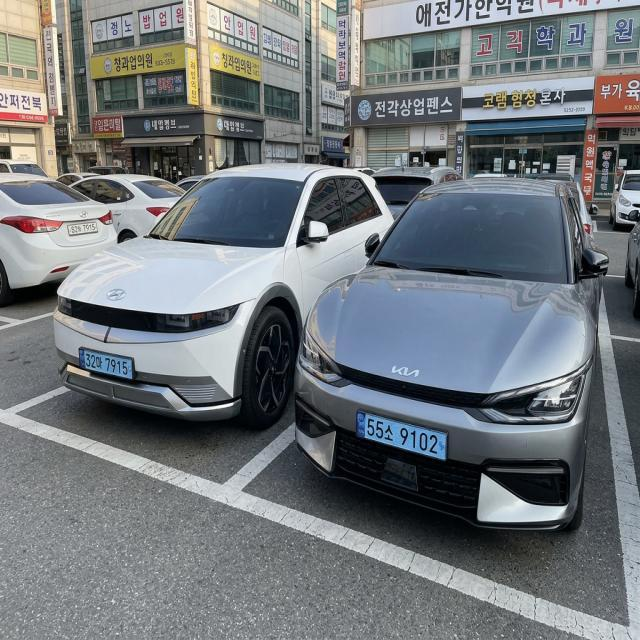car: (353, 402, 459, 470), (71, 343, 141, 386)
carev: (437, 425, 453, 462), (357, 405, 367, 448), (125, 351, 137, 384), (76, 346, 85, 376)
